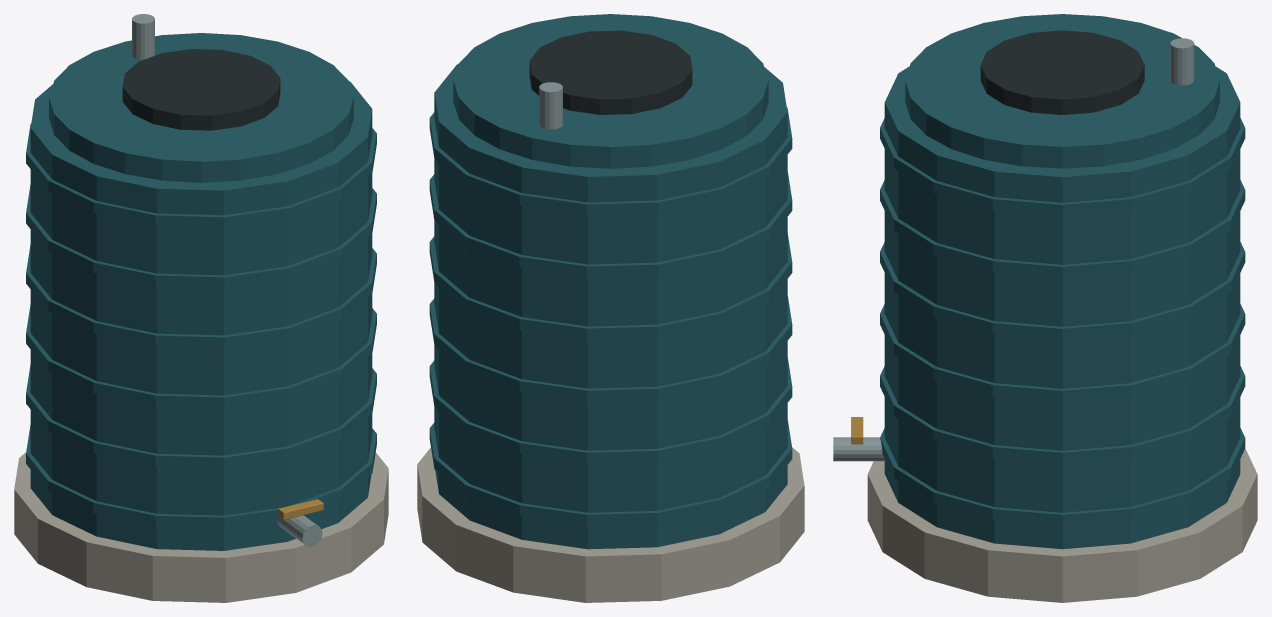
File: malaysia-outdoor-water-tank.glb
3 renders of one model, left to right at view 1: azimuth 30°, elevation 25°; view 2: azimuth 150°, elevation 25°; view 3: azimuth 270°, elevation 25°, orthographic. The views are drawn at different scales.
Parts seen in each view (by area): view 1: Tank, Shoulder_With_Open_Neck, Tank_Base, MOVABLE_Lid, Rib.002, Rib.001, Rib.003, Rib.004, Rib.005, Rib, Inlet, Outlet (+1 smaller); view 2: Tank, Shoulder_With_Open_Neck, Tank_Base, MOVABLE_Lid, Rib, Rib.003, Rib.004, Rib.002, Rib.005, Rib.001, Inlet; view 3: Tank, Shoulder_With_Open_Neck, Tank_Base, MOVABLE_Lid, Rib.005, Rib.004, Rib.001, Rib.003, Rib.002, Rib, Outlet, Inlet.
Boxes of the visible parts, x1,y1,x2,y2 form: Tank: (30, 81, 372, 550); Shoulder_With_Open_Neck: (49, 33, 353, 182); Tank_Base: (14, 452, 388, 602); MOVABLE_Lid: (122, 49, 280, 130); Rib.002: (26, 304, 376, 407); Rib.001: (26, 364, 376, 467); Rib.003: (26, 244, 376, 347); Rib.004: (26, 184, 376, 287); Rib.005: (26, 123, 376, 227); Rib: (26, 425, 376, 527); Inlet: (132, 14, 154, 59); Outlet: (277, 515, 322, 546); Tank: (434, 64, 787, 549); Shoulder_With_Open_Neck: (453, 14, 768, 168); Tank_Base: (417, 447, 804, 602); MOVABLE_Lid: (529, 30, 692, 114); Rib: (429, 420, 792, 525); Rib.003: (429, 233, 792, 339); Rib.004: (429, 171, 792, 277); Rib.002: (429, 296, 792, 401); Rib.005: (429, 107, 792, 215); Rib.001: (429, 358, 792, 463); Inlet: (539, 82, 562, 129); Tank: (884, 66, 1240, 549); Shoulder_With_Open_Neck: (905, 14, 1219, 168); Tank_Base: (867, 448, 1257, 602); MOVABLE_Lid: (980, 30, 1144, 114); Rib.005: (880, 118, 1245, 215); Rib.004: (880, 180, 1245, 277); Rib.001: (880, 366, 1245, 463); Rib.003: (880, 242, 1245, 339); Rib.002: (880, 304, 1245, 401); Rib: (880, 428, 1245, 525); Outlet: (833, 437, 885, 461); Inlet: (1170, 38, 1194, 85).
Size of the model in its own units: 1.14 by 1.54 by 1.24.
